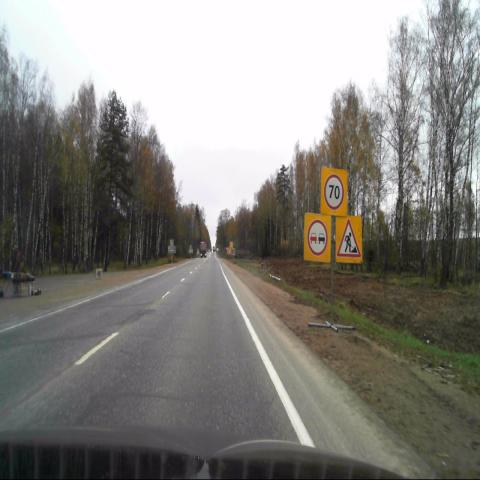1_25: (336, 216, 362, 262)
